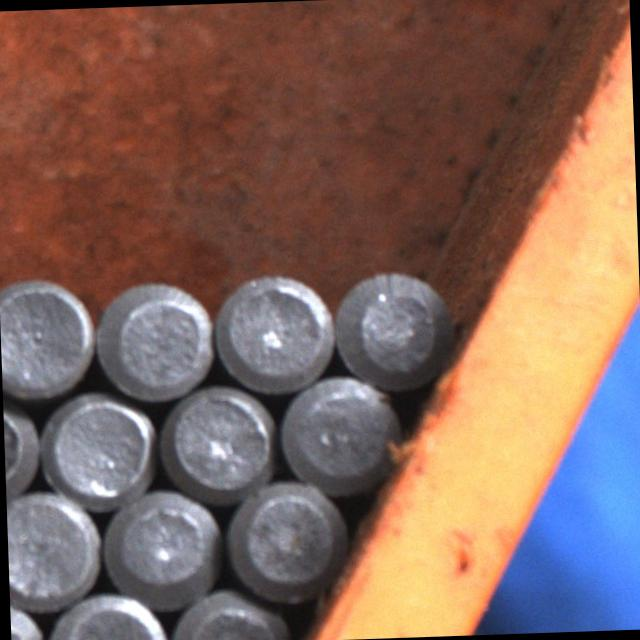tool: (92, 275, 217, 403), (276, 371, 401, 498), (212, 266, 336, 394), (330, 263, 450, 392), (100, 484, 223, 606), (226, 476, 345, 602), (38, 389, 158, 511), (160, 381, 278, 502), (6, 487, 105, 611), (0, 274, 96, 401), (168, 583, 287, 640), (45, 588, 170, 640)
